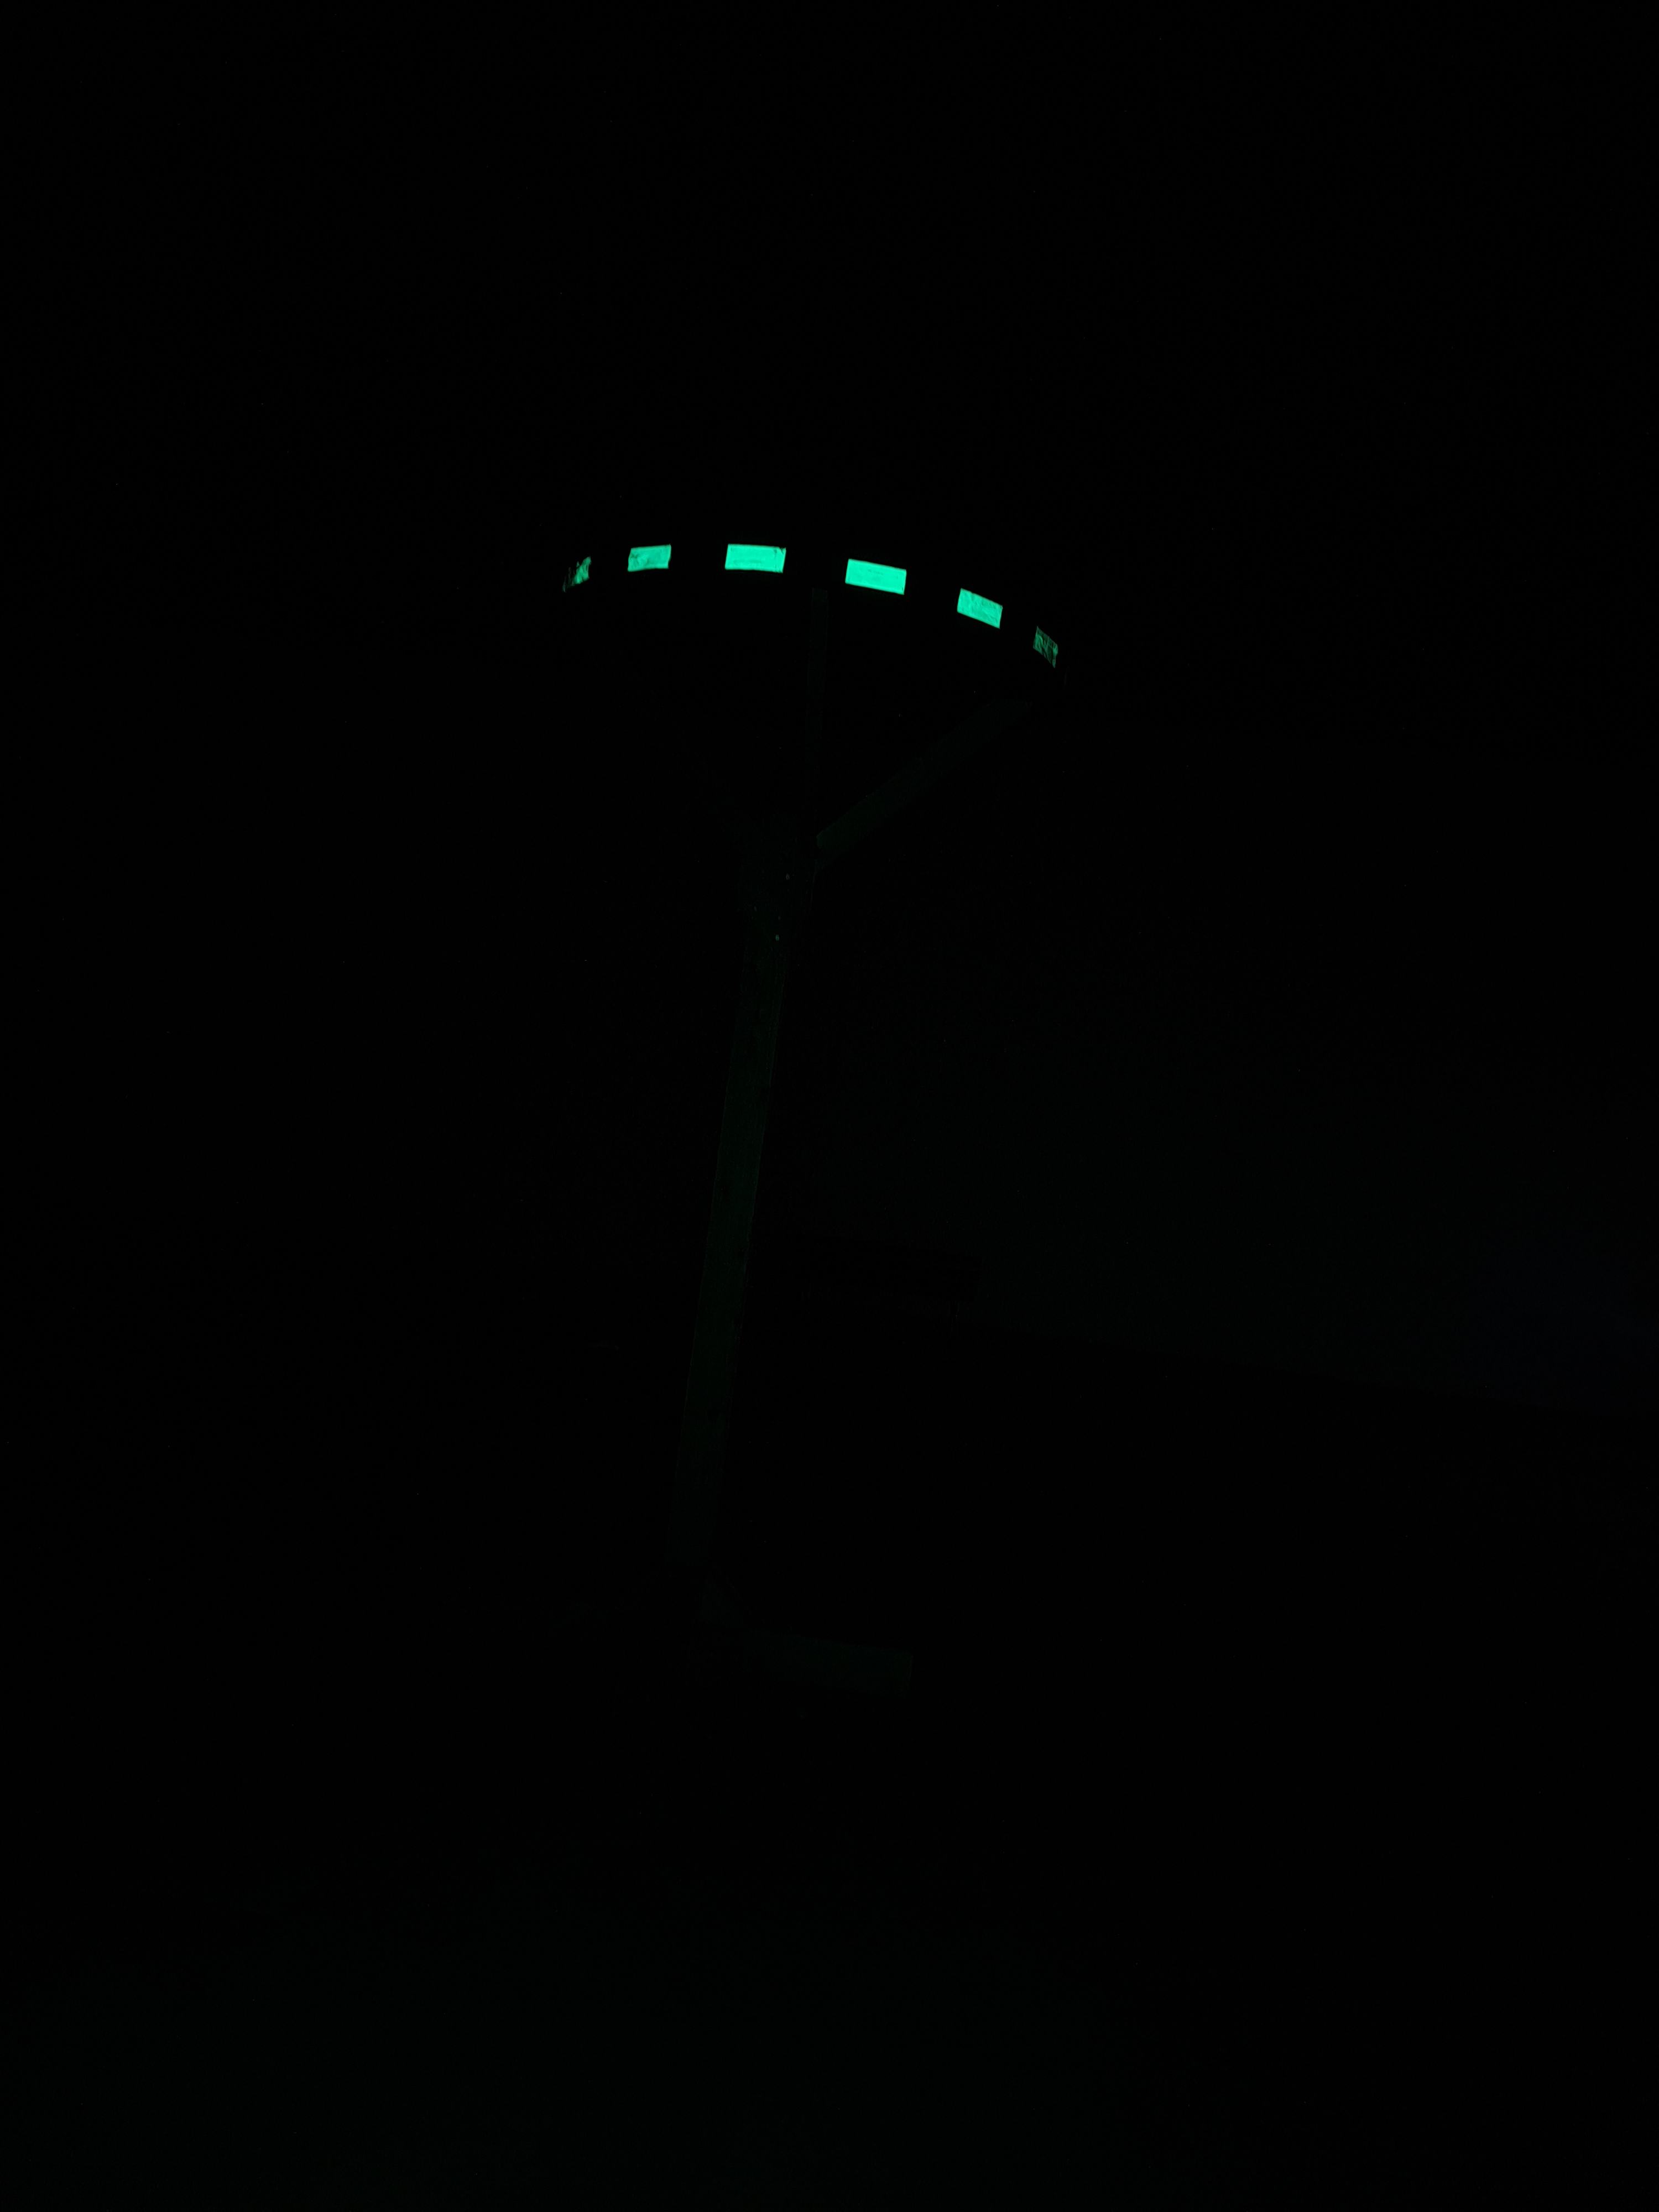hoop: (559, 517, 1061, 669)
